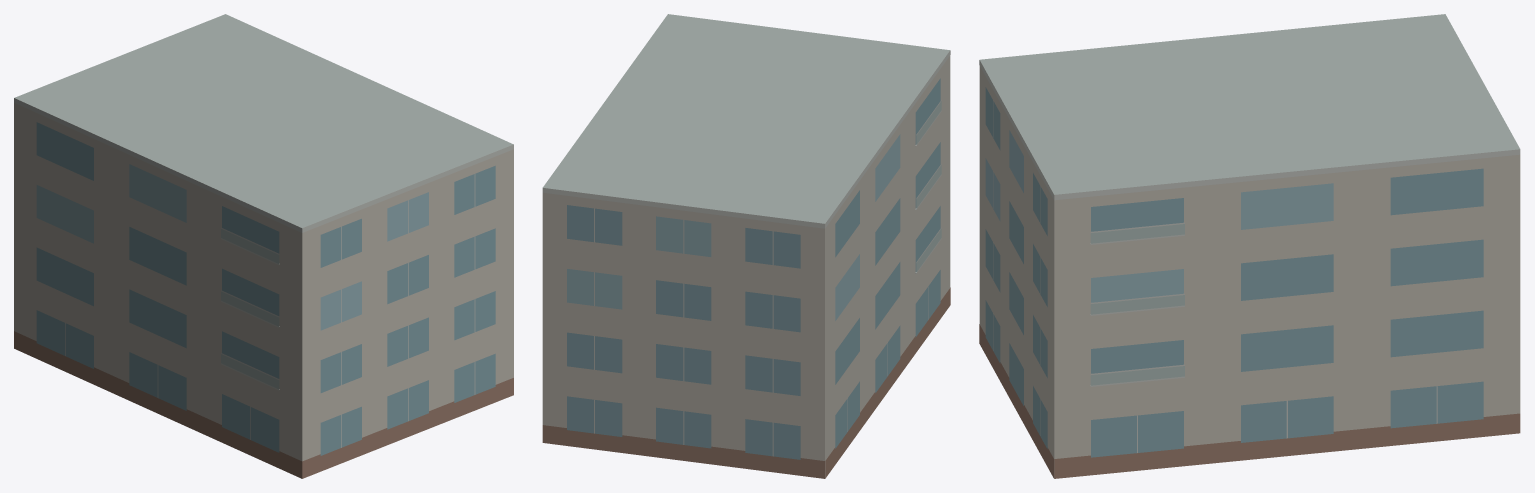
The model's file is survey-upis-32906174.glb.
3 renders of one model, left to right at view 1: azimuth 30°, elevation 25°; view 2: azimuth 150°, elevation 25°; view 3: azimuth 270°, elevation 25°, orthographic. The views are drawn at different scales.
Parts seen in each view (by area): view 1: survey-upis-32906174.tmp; view 2: survey-upis-32906174.tmp; view 3: survey-upis-32906174.tmp.
Part boxes in pixels (bbox=[...]): survey-upis-32906174.tmp: bbox=[14, 14, 513, 478]; survey-upis-32906174.tmp: bbox=[542, 14, 950, 478]; survey-upis-32906174.tmp: bbox=[979, 14, 1520, 478].
Bounding box in the file's own units: 17.49 × 12.8 × 22.1.
